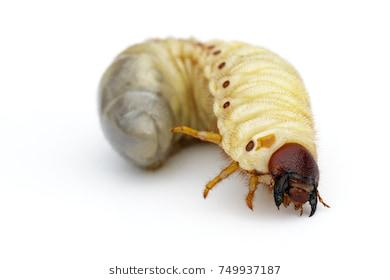grub: (95, 32, 350, 235)
